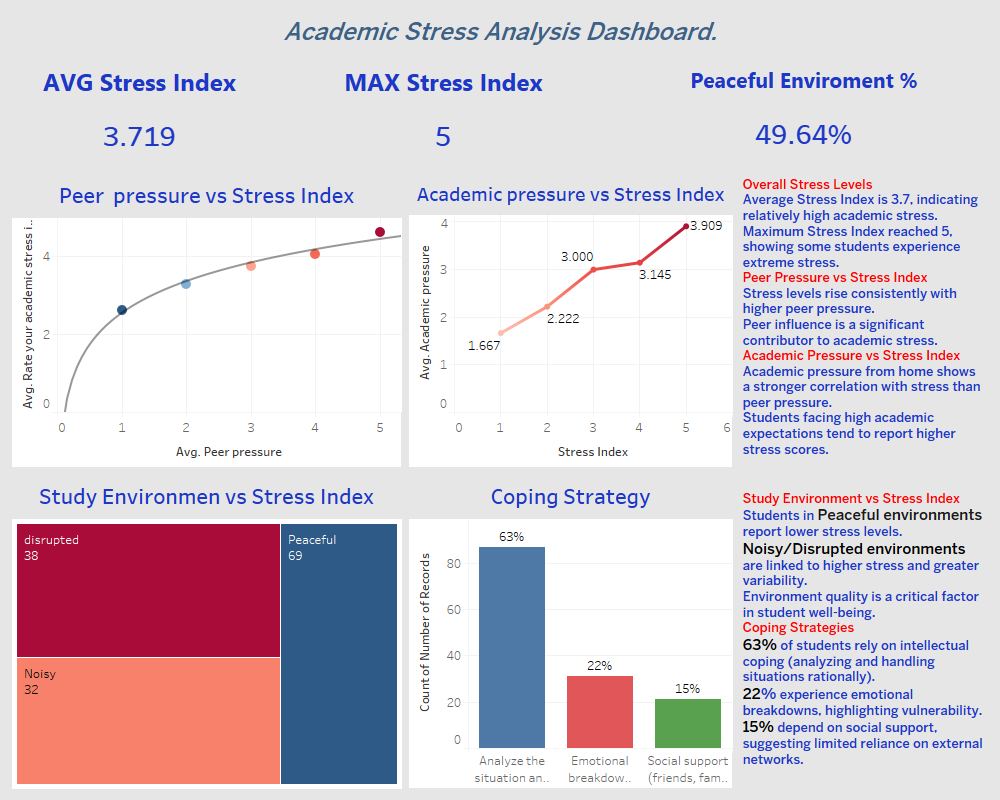

Layout of this report page (visuals, bound fields, positions):
{"tool":"tableau","page":{"name":"Dashboard 1","canvas":[1000,800],"ordinal":0},"visuals":[{"type":"title","box":[8,8,984,47]},{"type":"worksheet","title":"AVG Stress Index","mark":"Automatic","box":[8,55,263,114.7]},{"type":"worksheet","title":"MAX Stress Index","mark":"Automatic","box":[271,55,345,114.7]},{"type":"worksheet","title":"Peaceful Enviroment %","mark":"Automatic","box":[616,55,376,114.7]},{"type":"worksheet","title":"Peer  pressure vs Stress Index","mark":"Circle","rows":["Rate your academic stress index"],"cols":["Peer pressure"],"box":[8,169.7,397,301.3]},{"type":"worksheet","title":"Academic pressure vs Stress Index","mark":"Automatic","rows":["Academic pressure"],"cols":["Stress Index"],"box":[405,169.7,331,301.3]},{"type":"text","box":[736,169.7,256,301.3]},{"type":"worksheet","title":"Study Environmen vs Stress Index","mark":"Automatic","box":[8,471,397,321]},{"type":"worksheet","title":"Coping Strategy","mark":"Automatic","rows":["Number of Records"],"cols":["What coping strategy you use as a student?"],"box":[405,471,331,321]},{"type":"text","box":[736,471,256,321]}]}

Visuals, with their boxes in screenshot pixels (x1, y1, x2, y2), scaled from the page's 1000x800 canvas onto the 1000x800 screenshot:
title: box(8, 8, 992, 55)
"AVG Stress Index" worksheet: box(8, 55, 271, 170)
"MAX Stress Index" worksheet: box(271, 55, 616, 170)
"Peaceful Enviroment %" worksheet: box(616, 55, 992, 170)
"Peer  pressure vs Stress Index" worksheet (Circle marks): box(8, 170, 405, 471)
"Academic pressure vs Stress Index" worksheet: box(405, 170, 736, 471)
text: box(736, 170, 992, 471)
"Study Environmen vs Stress Index" worksheet: box(8, 471, 405, 792)
"Coping Strategy" worksheet: box(405, 471, 736, 792)
text: box(736, 471, 992, 792)
